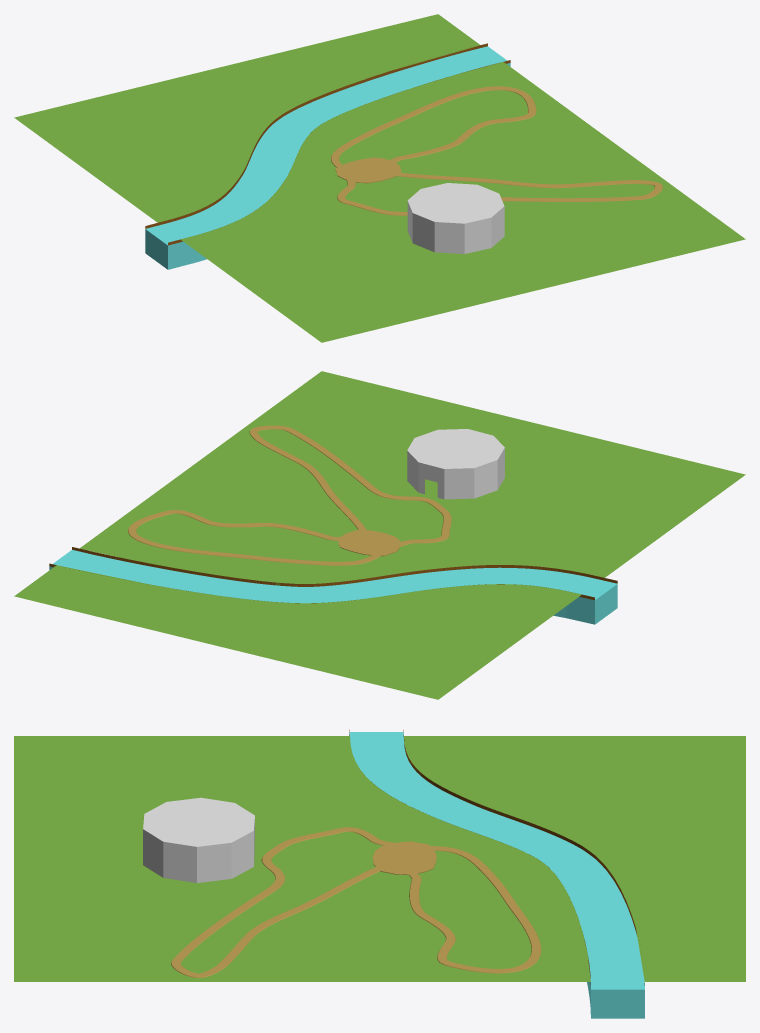
The picture shows the model from 3 angles, top to bottom: view 1: azimuth 30°, elevation 25°; view 2: azimuth 150°, elevation 25°; view 3: azimuth 270°, elevation 25°; orthographic projection. The views are drawn at different scales.
Visible parts, largest first — view 1: Ground, River, Cylinder, Path, Center; view 2: Ground, River, Cylinder, Path, Center; view 3: Ground, River, Cylinder, Path, Center.
Boxes of the visible parts, box(x1,y1,x2,y2) form: Ground: box(14, 14, 745, 342); River: box(145, 43, 510, 269); Cylinder: box(407, 183, 504, 253); Path: box(331, 86, 662, 215); Center: box(335, 157, 401, 183); Ground: box(14, 371, 745, 699); River: box(49, 547, 617, 624); Cylinder: box(407, 429, 504, 499); Path: box(128, 425, 451, 565); Center: box(338, 529, 401, 556); Ground: box(14, 736, 745, 981); River: box(349, 729, 644, 1018); Cylinder: box(143, 797, 254, 882); Path: box(171, 827, 541, 977); Center: box(372, 841, 436, 874).
Size of what is drawn, in the model's own units: 10.47 by 1.31 by 12.56.
